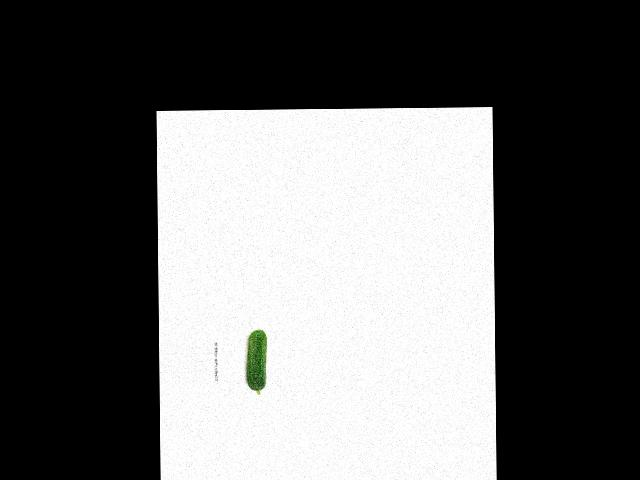cucumber: (246, 328, 267, 395)
